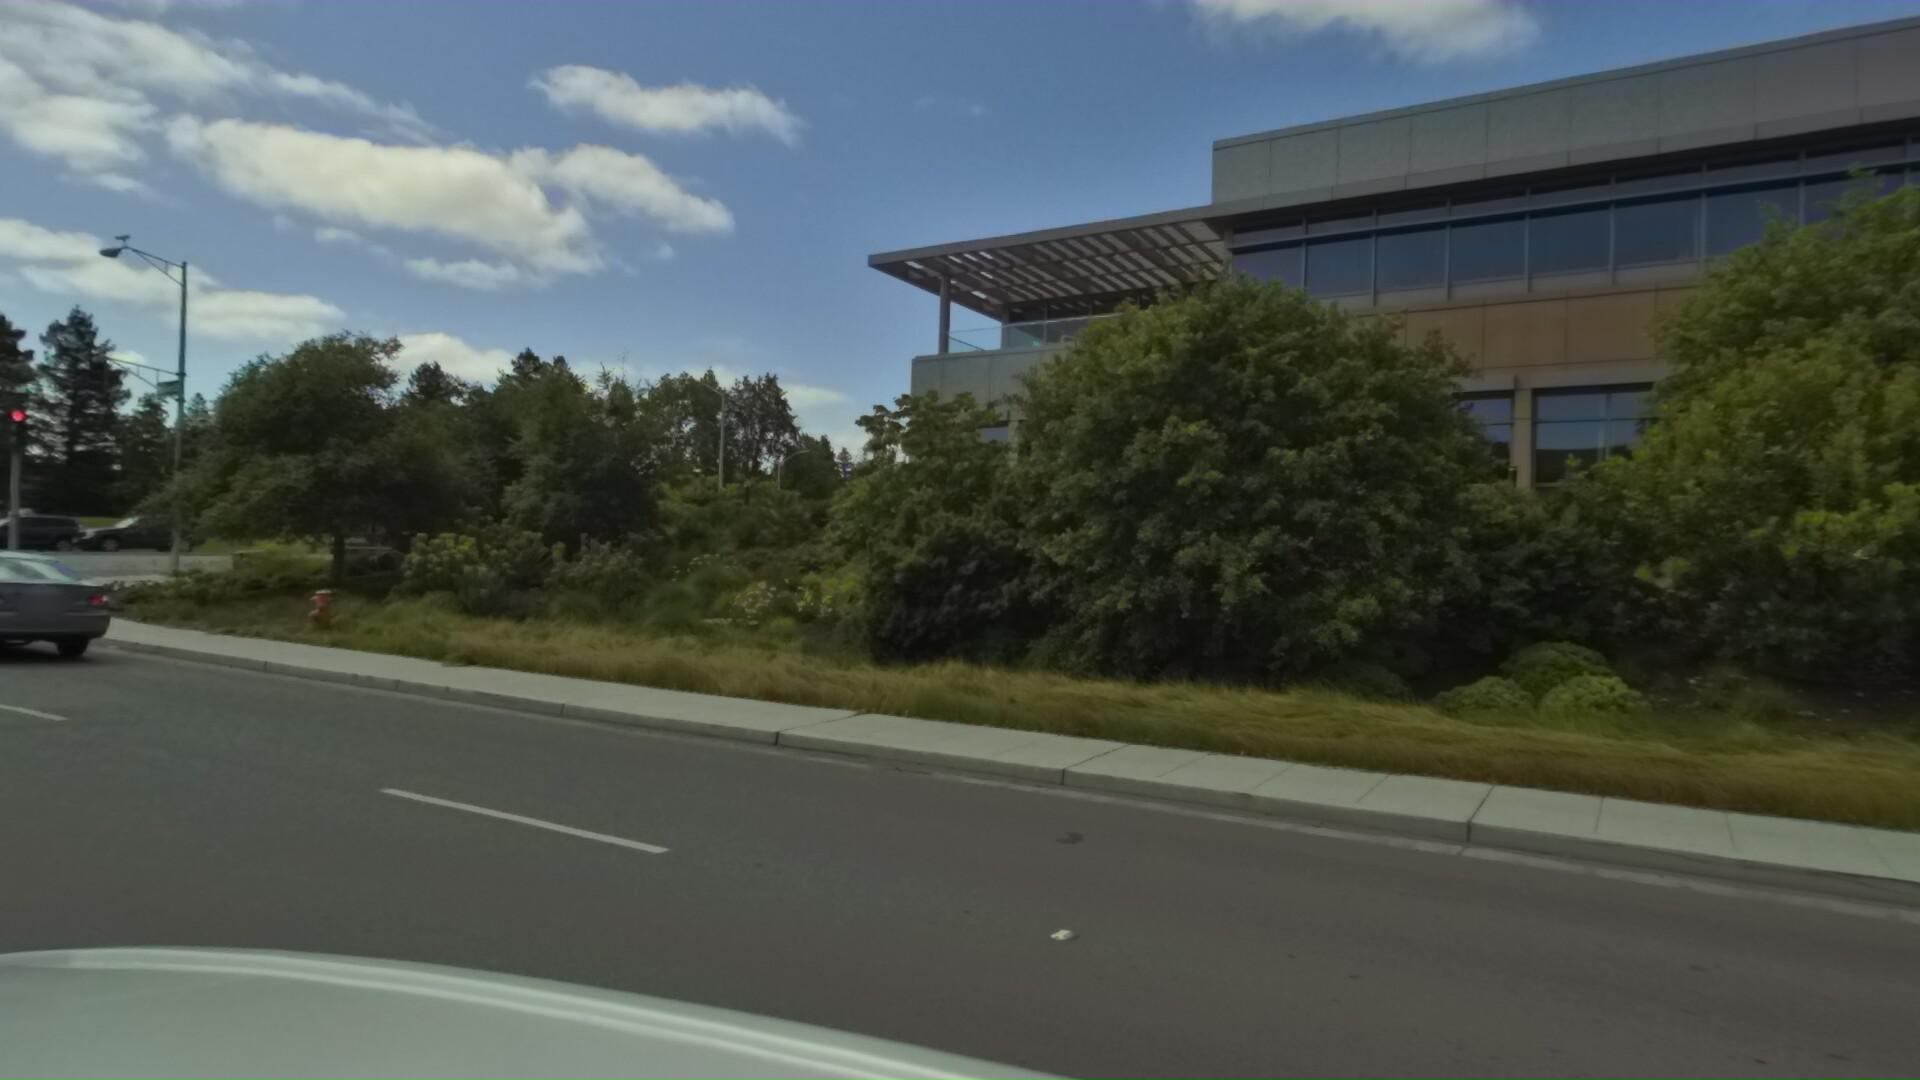car: (0, 531, 136, 676), (57, 505, 208, 545), (0, 512, 88, 556)
